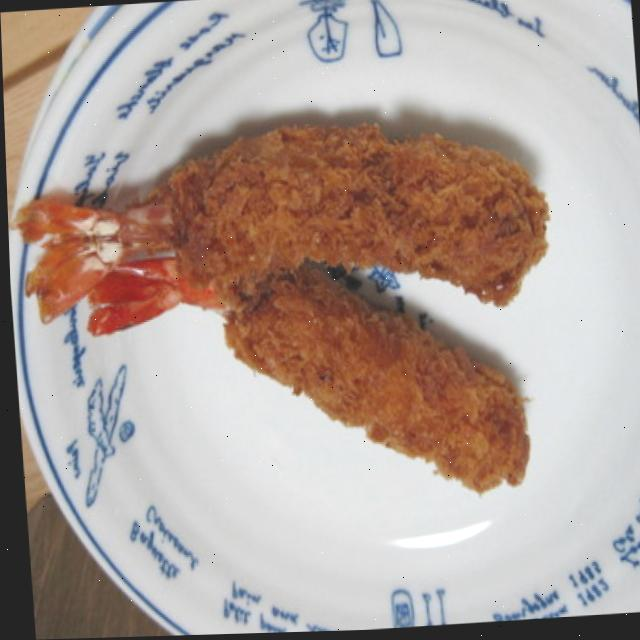炸货点心: (3, 99, 568, 541)
熟制海鲜: (3, 99, 568, 541)
